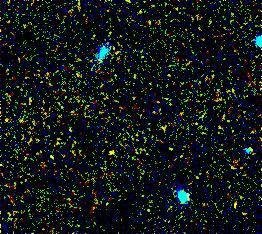star: (98, 135, 128, 165)
